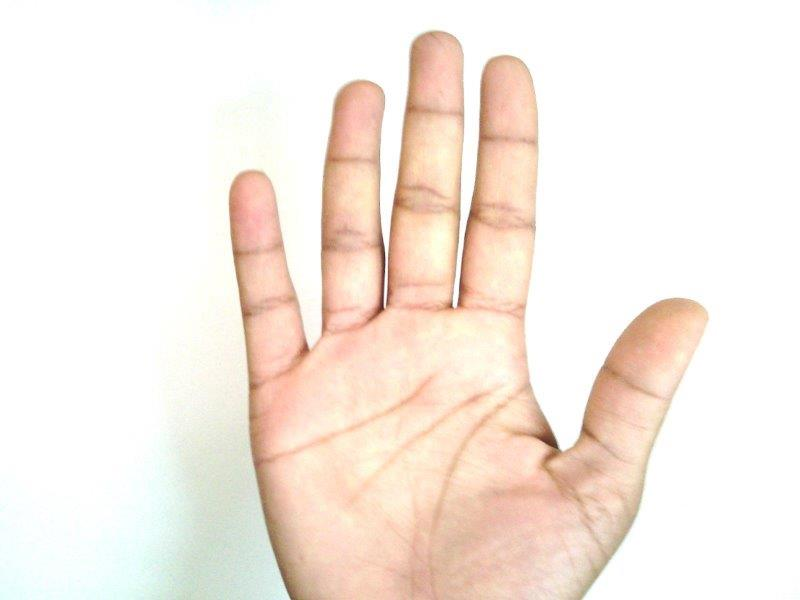hand: (229, 33, 706, 600)
